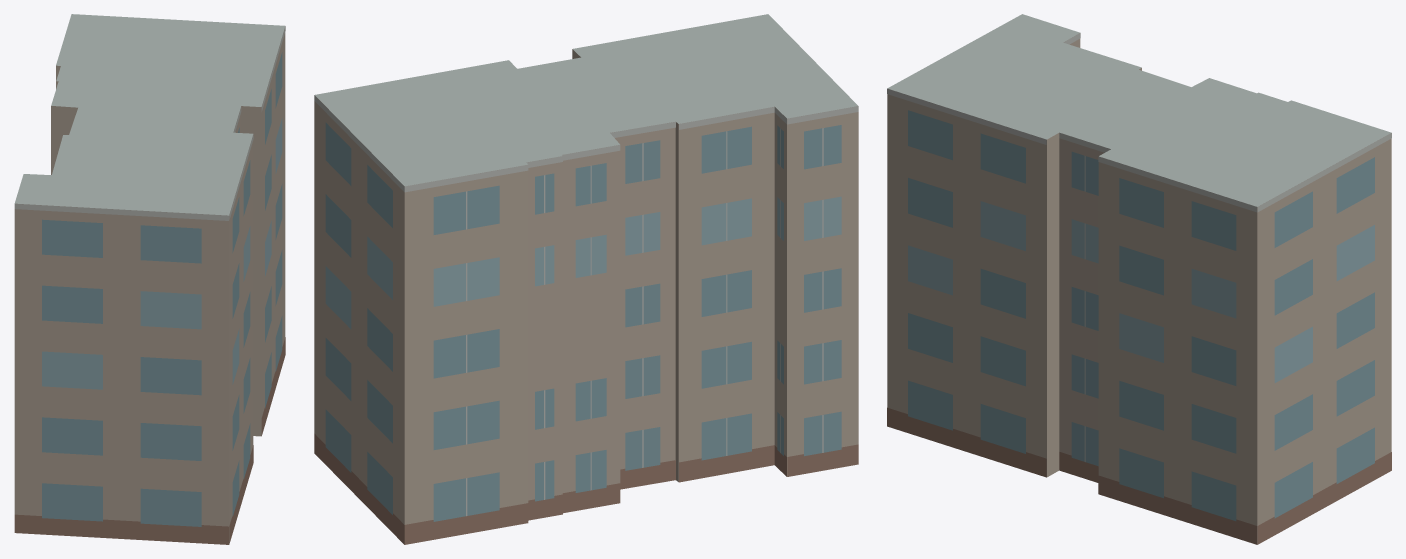
Rendered from survey-upis-32871223.glb.
3 views of the same model, side by side, from view 1: azimuth 30°, elevation 25°; view 2: azimuth 150°, elevation 25°; view 3: azimuth 270°, elevation 25° (orthographic). The views are drawn at different scales.
Visible parts, largest first — view 1: survey-upis-32871223.tmp; view 2: survey-upis-32871223.tmp; view 3: survey-upis-32871223.tmp.
Part boxes in pixels (<box>): survey-upis-32871223.tmp: <box>14,14,285,544</box>; survey-upis-32871223.tmp: <box>314,14,858,544</box>; survey-upis-32871223.tmp: <box>887,14,1391,544</box>.
Size of the model in its own units: 18.01 by 14.7 by 19.9.
